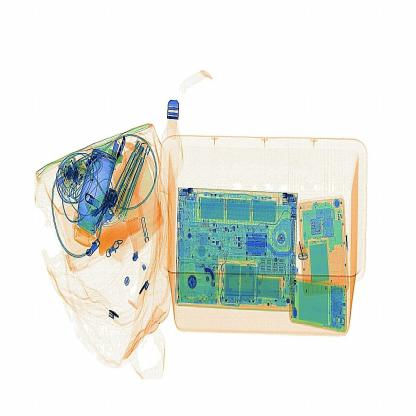wrench: (291, 230, 319, 272)
